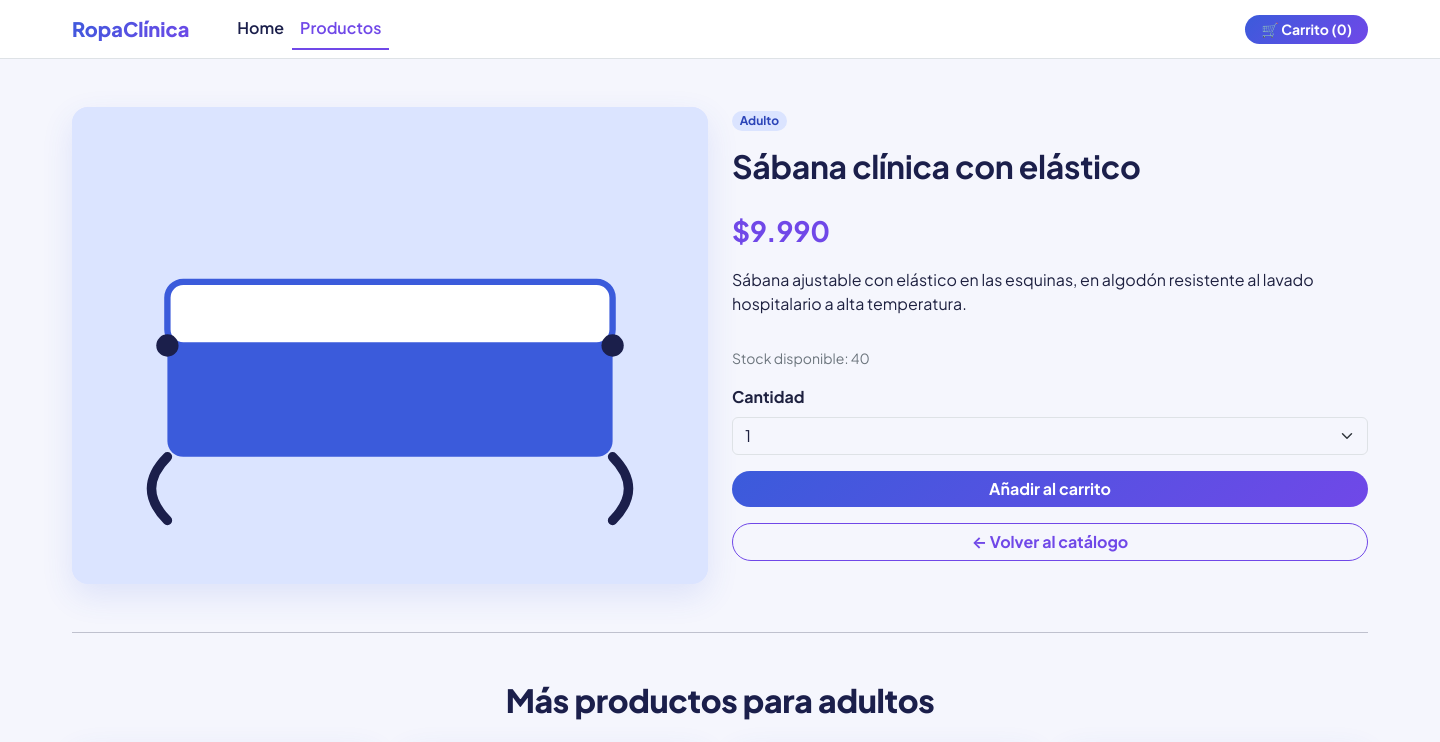
Test: Formulario de pedido (validación) › muestra errores al enviar vacío y no confirma el pedido
Click the button "Añadir al carrito" at [1050, 489], box [732,471,1368,507]
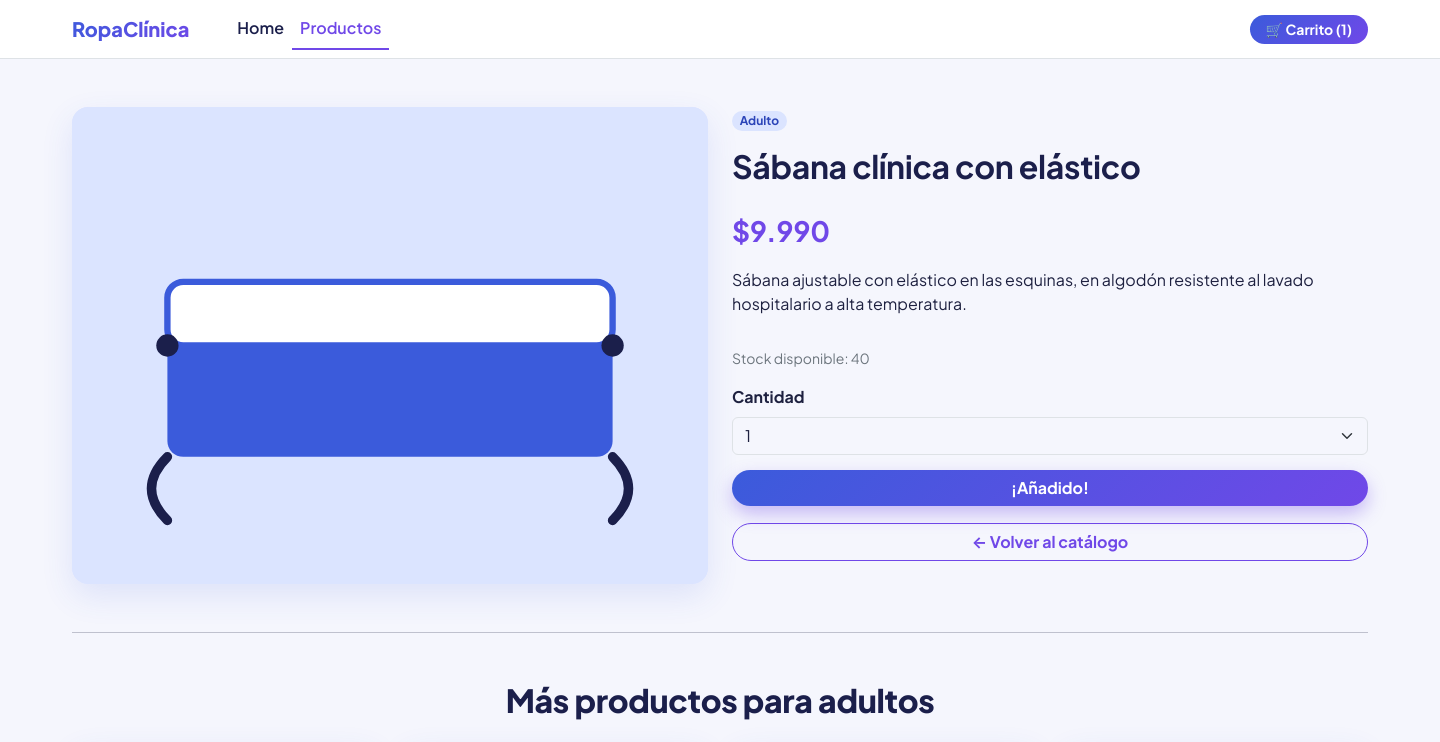
Click the link "🛒 Carrito (1)" at [1309, 29], box [1250,14,1368,44]
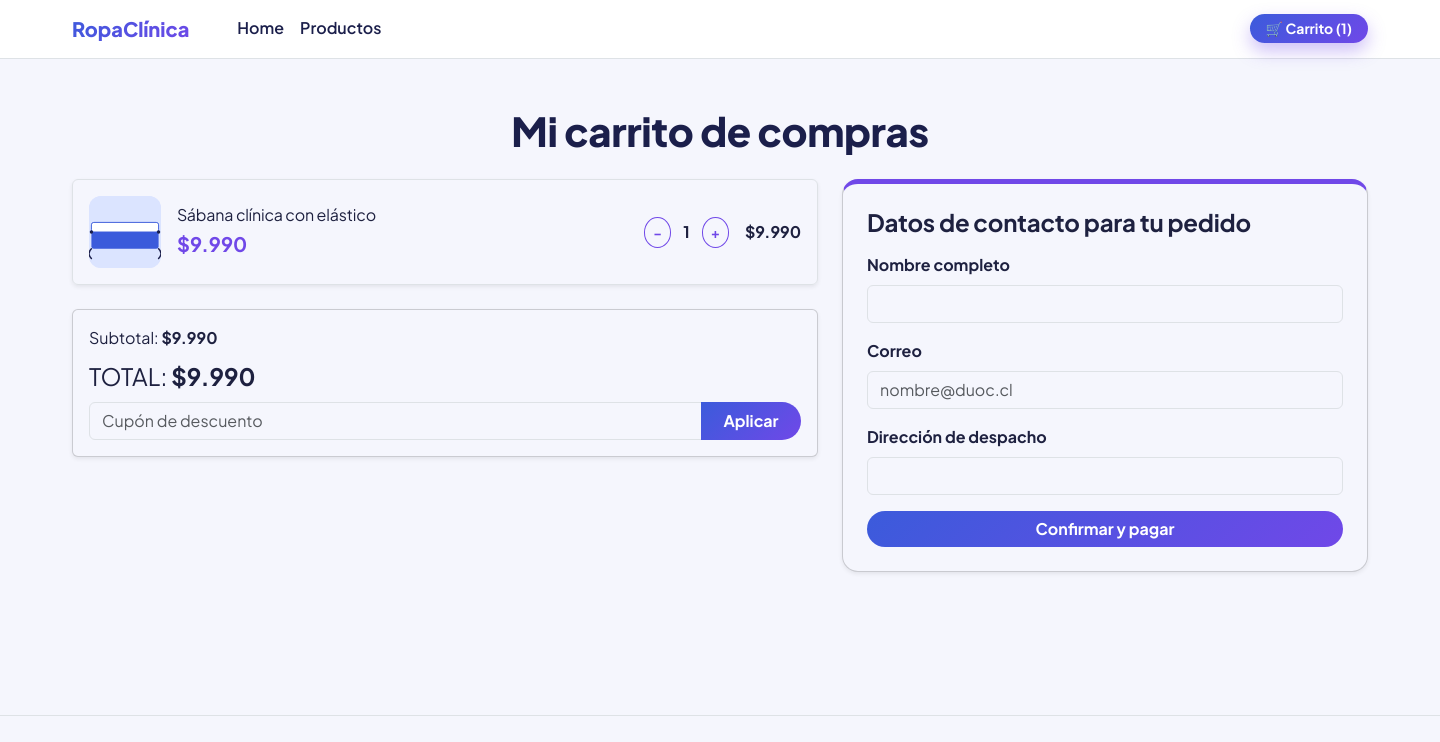
Click the button "Confirmar y pagar" at [1105, 529], box [867,511,1343,547]
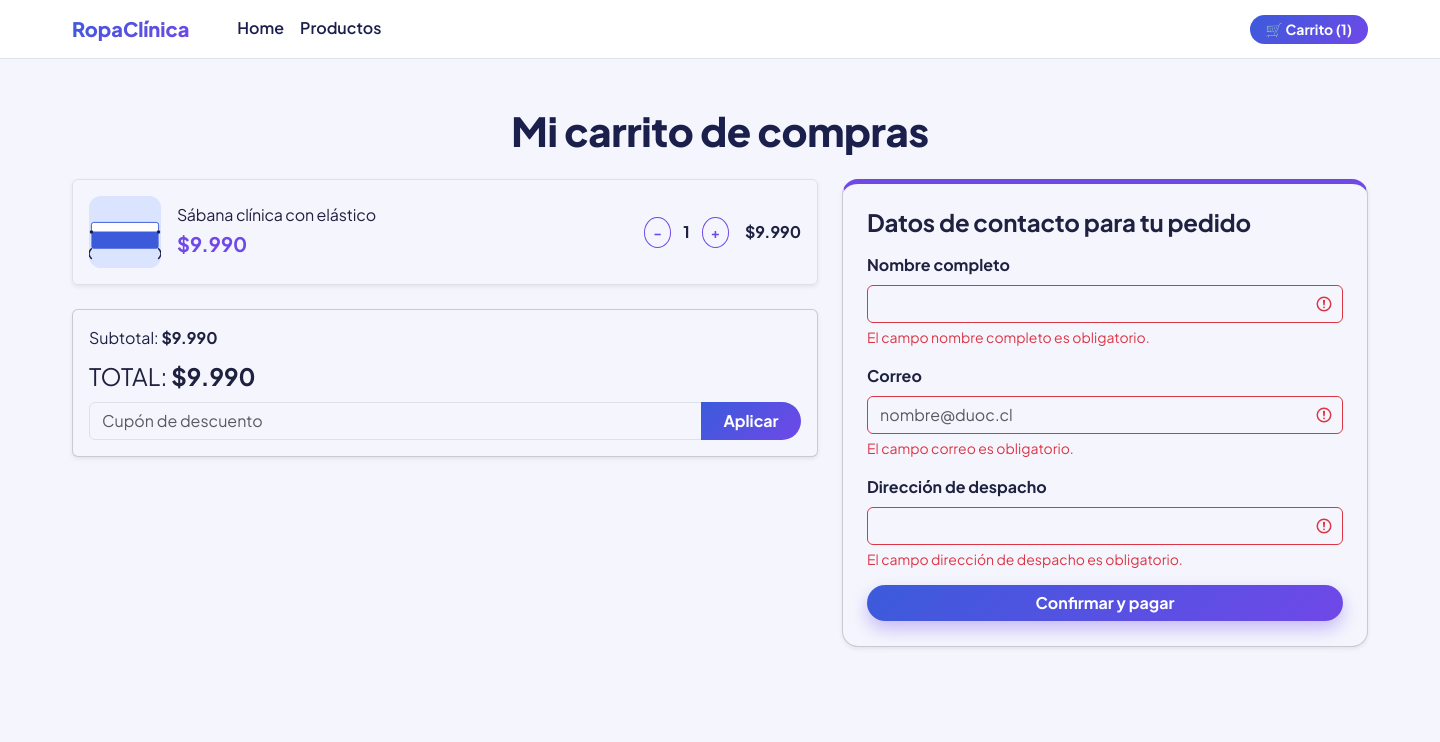
Result: the text "El campo nombre completo es obligatorio." is shown at [867,328,1150,346]
